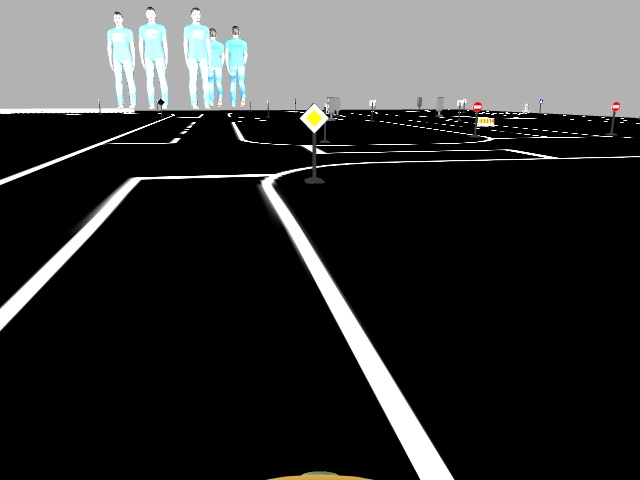ClosedRoadStand: (475, 115, 495, 127)
NoEntry: (470, 100, 484, 114), (609, 99, 621, 114)
Priority: (295, 102, 330, 134)
